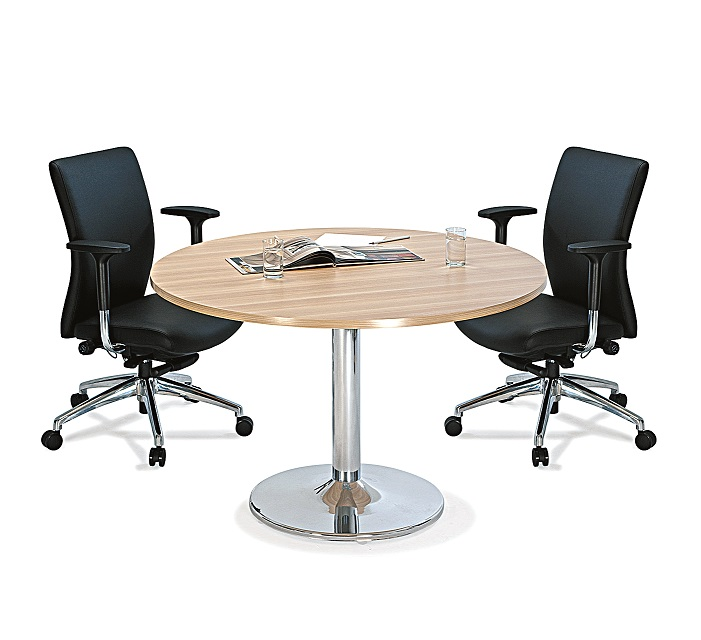conference_table: (150, 226, 548, 542)
